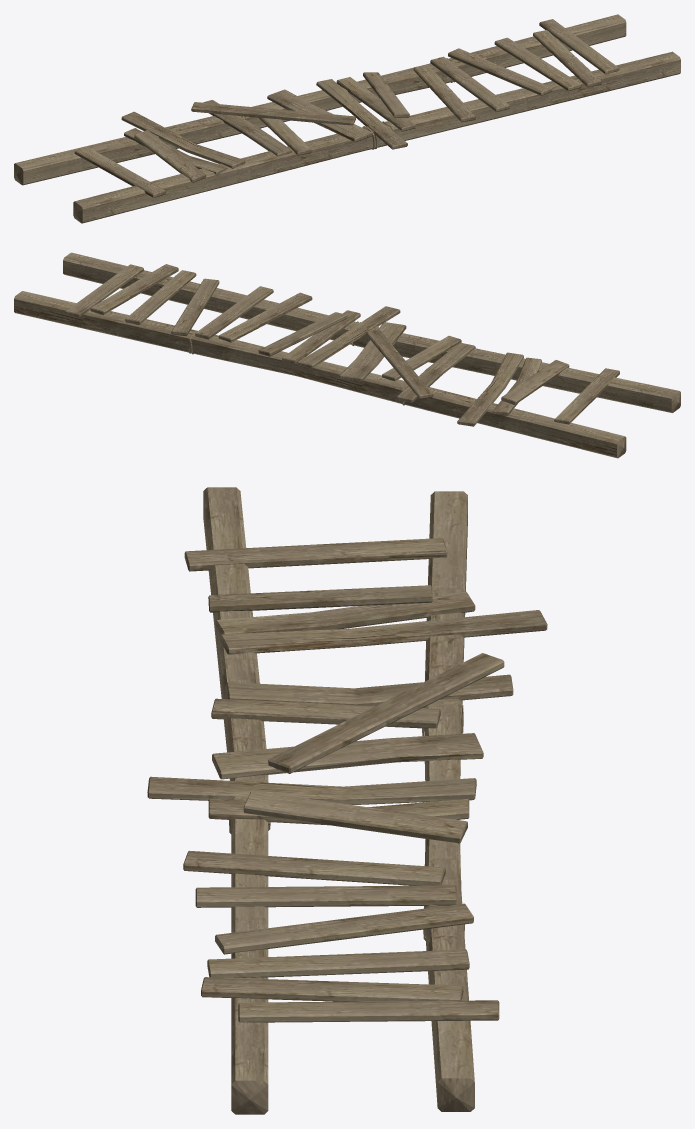
File: TW2_5_WALL_01_08-transformed.glb
The picture shows the model from 3 angles, top to bottom: view 1: azimuth 30°, elevation 25°; view 2: azimuth 150°, elevation 25°; view 3: azimuth 270°, elevation 25°; orthographic projection. The views are drawn at different scales.
Visible parts, largest first — view 1: default; view 2: default; view 3: default.
Part boxes in pixels (x1,y1,x2,y2): default: (14,14,680,223); default: (14,252,680,458); default: (147,487,547,1114).
Size of the model in its own units: 9.47 by 0.3987 by 2.69.
Materials: 1 (1 with a texture image).
